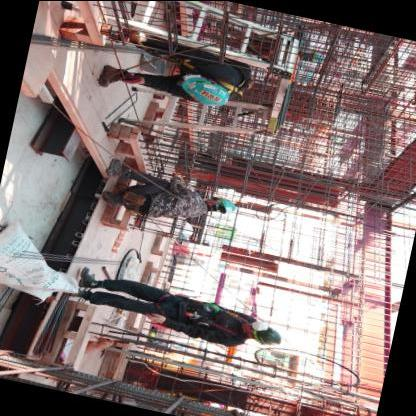safety-shoe: (95, 58, 137, 94), (101, 154, 129, 181), (75, 262, 102, 290)
